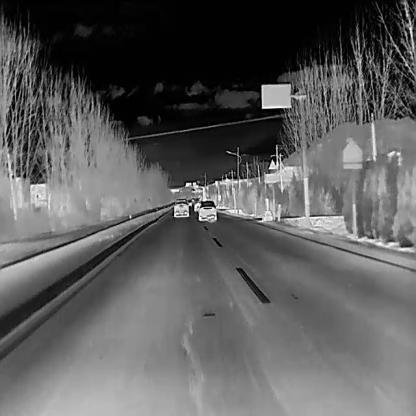car: (198, 200, 216, 222), (173, 197, 189, 217), (193, 200, 202, 211), (186, 198, 192, 206)
